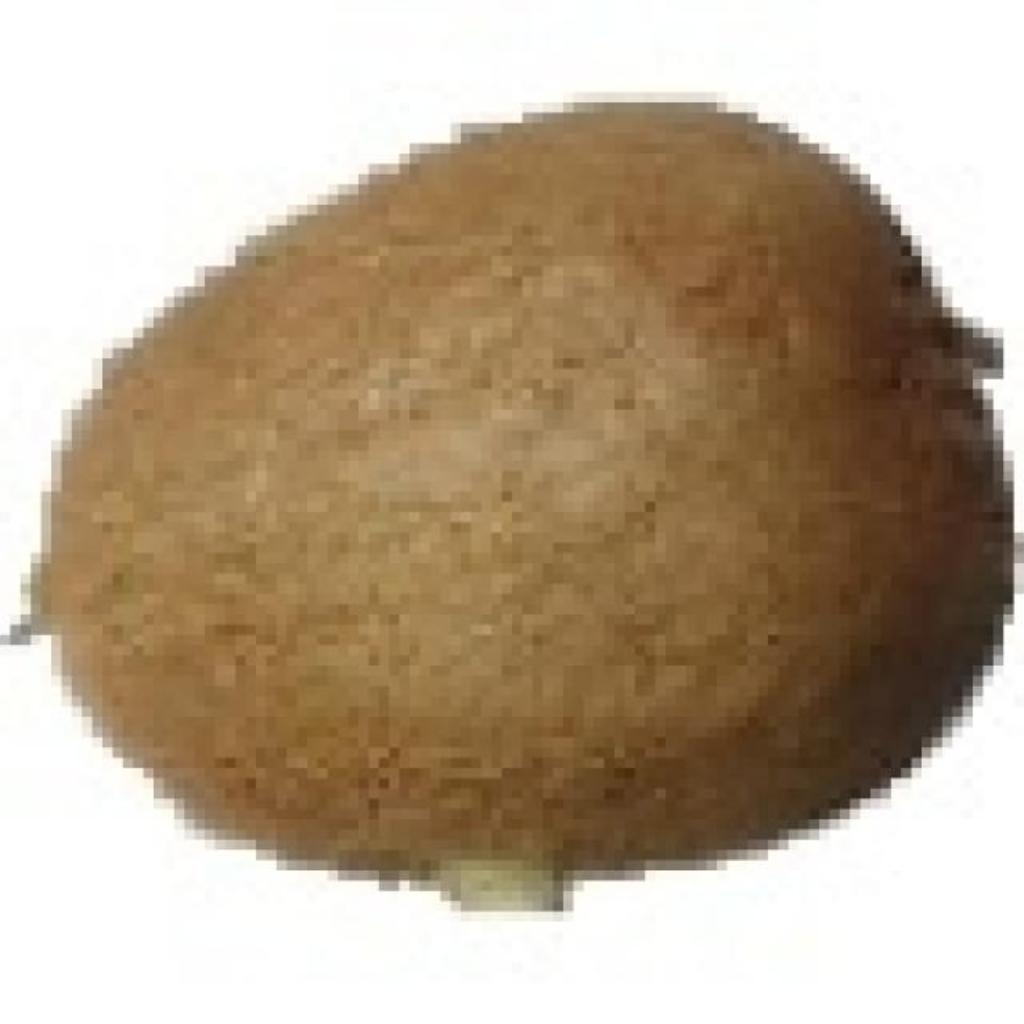kiwi: (31, 92, 993, 881)
